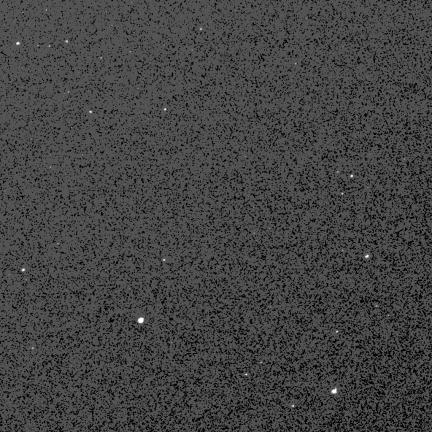blob: (138, 318, 143, 323), (332, 389, 337, 394), (365, 255, 369, 258), (65, 41, 69, 44), (16, 42, 20, 45), (164, 108, 167, 111), (90, 111, 93, 114), (22, 269, 25, 272), (163, 259, 166, 262), (351, 175, 354, 178)
